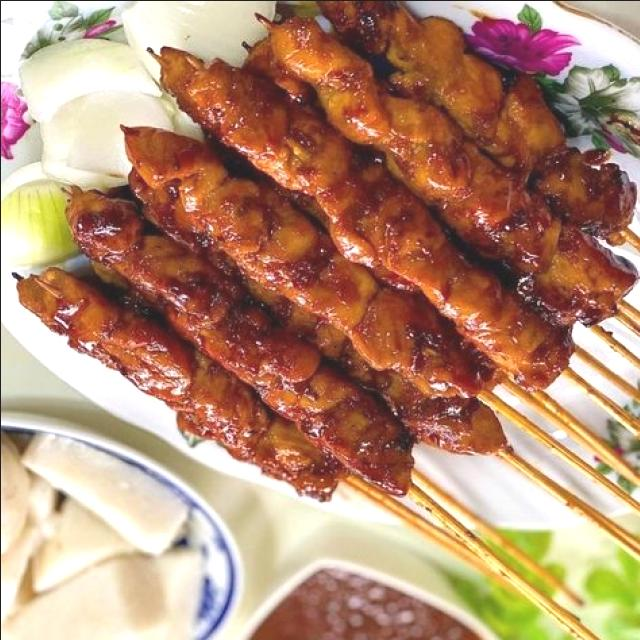sate: (0, 0, 640, 640)
